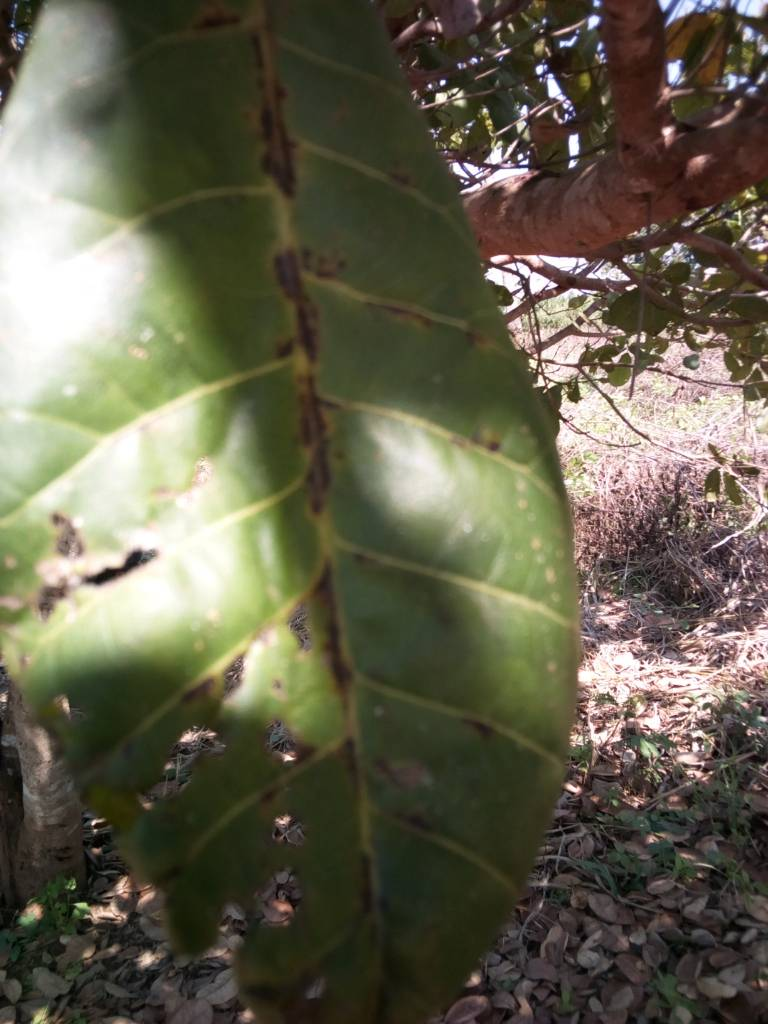Anthracnose: (2, 3, 580, 1024)
